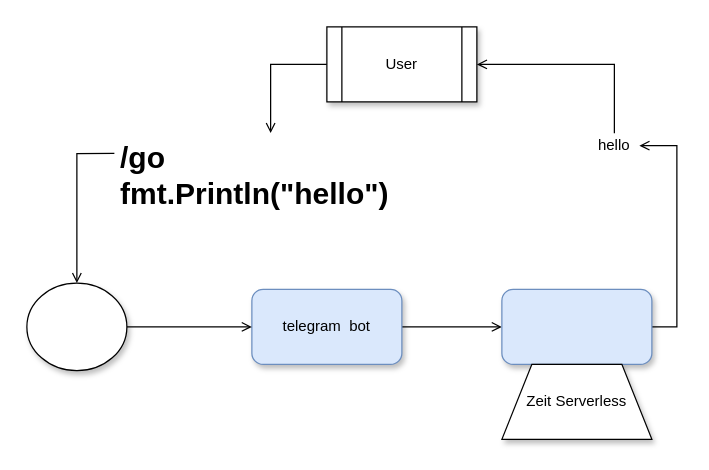
The diagram is 709 pixels wide and 470 high, and some of its shapes have lost their labels. The centre of each missing label's shape, as x and y in pixels:
golang playground: (x=577, y=328)
Message: (x=77, y=328)
